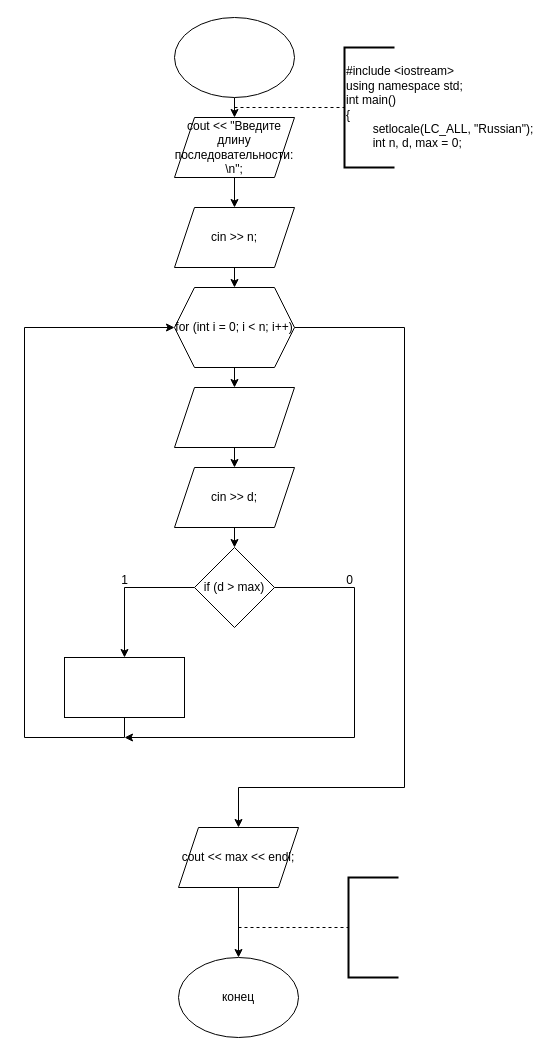
The diagram is 551 pixels wide and 1055 high, and some of its shapes have lost their labels. The shapes that lost their labels are listed below. From the top down, each one's centre as x and y in pixels, then its label:
pixel 234 57: начало
pixel 234 417: cout << "Введите число - ";
pixel 124 687: max = d;
pixel 373 927: return 0; }
